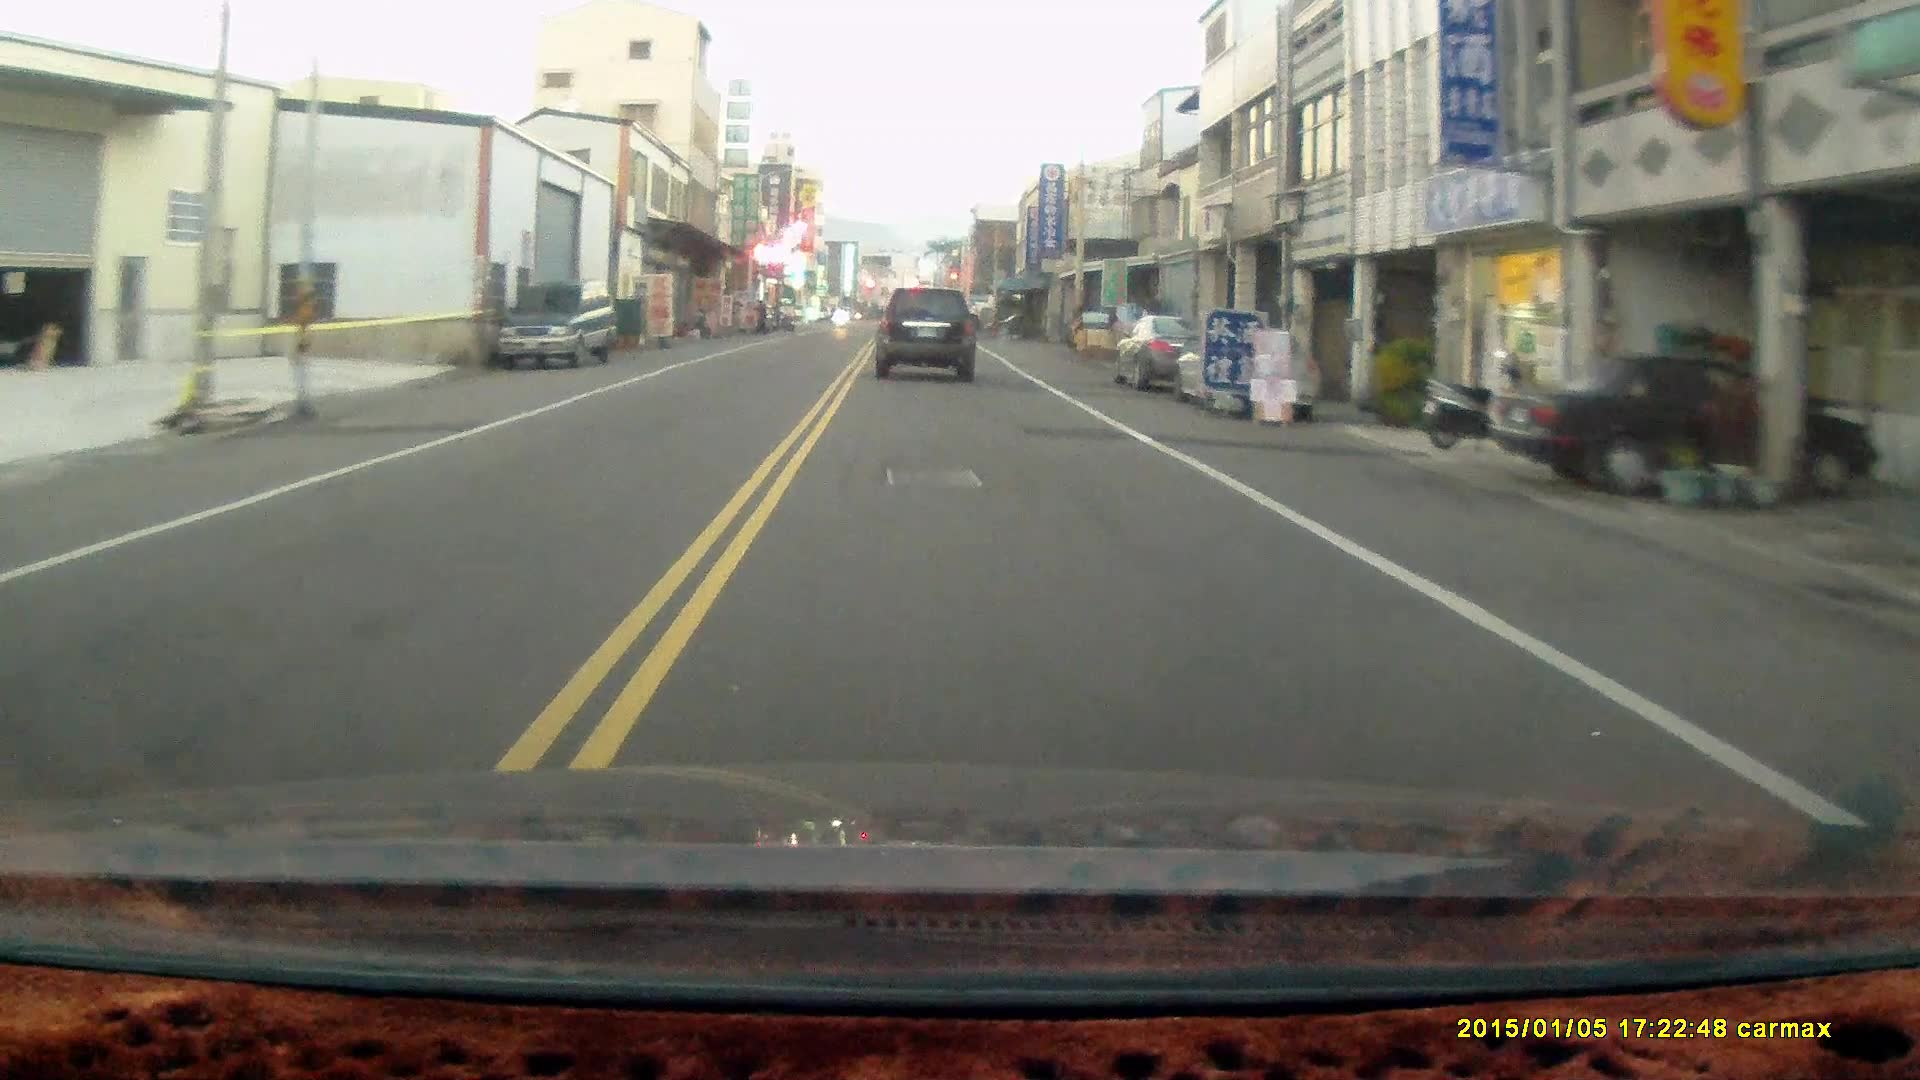vehicle: (1493, 356, 1870, 502), (1174, 328, 1327, 421), (495, 281, 617, 372), (873, 287, 978, 386), (1116, 315, 1234, 392)
